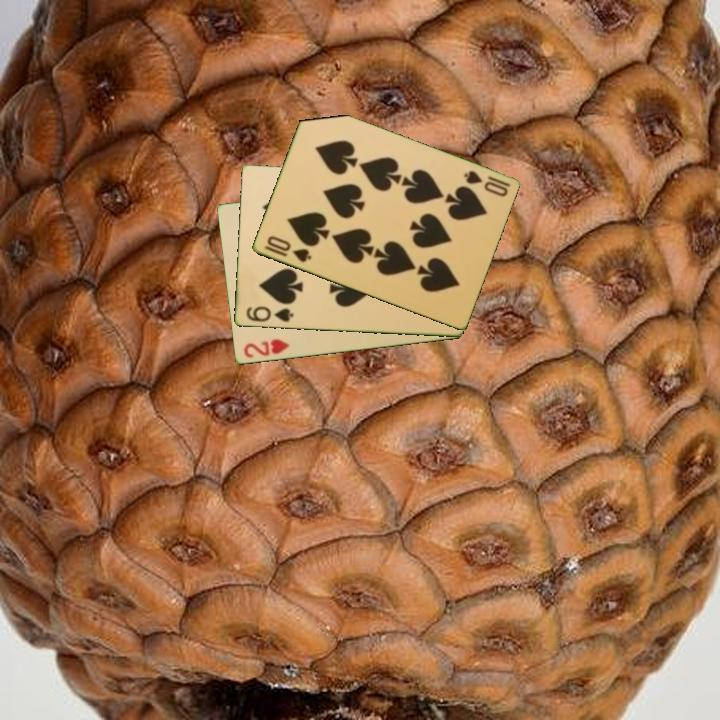10s: (261, 232, 314, 266), (460, 167, 513, 200)
2h: (240, 336, 292, 361)
6s: (242, 303, 296, 325)
